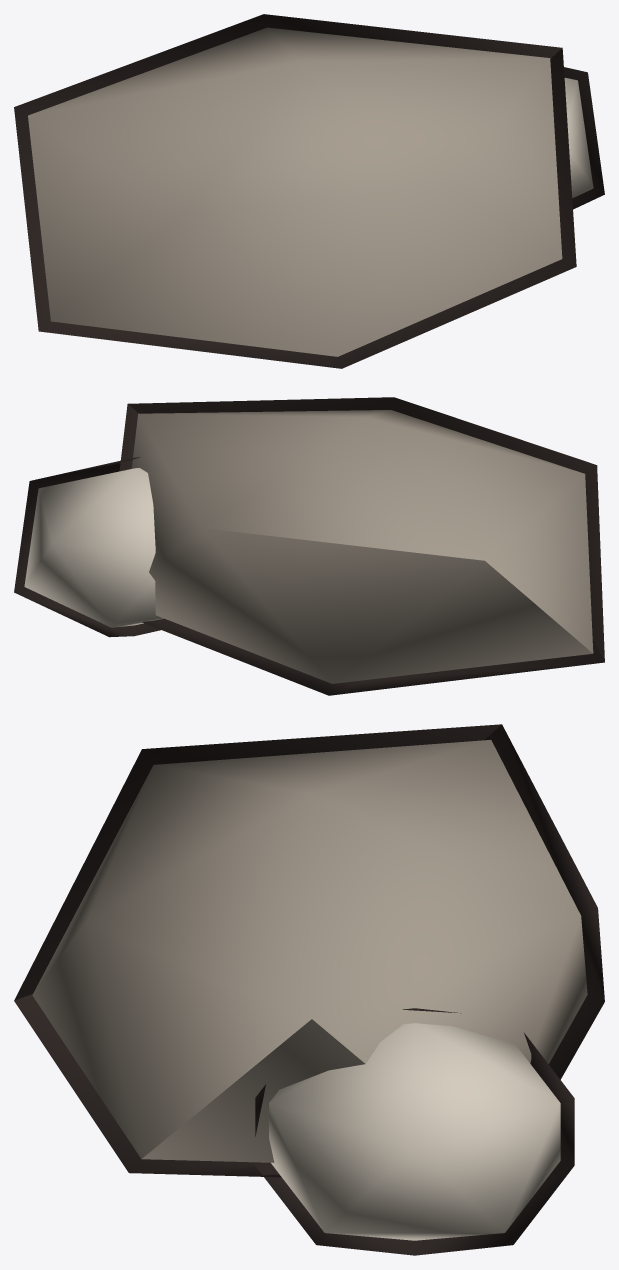
File: Rock.fbx
The picture shows the model from 3 angles, top to bottom: view 1: azimuth 30°, elevation 25°; view 2: azimuth 150°, elevation 25°; view 3: azimuth 270°, elevation 25°; orthographic projection. The views are drawn at different scales.
Visible parts, largest first — view 1: PR_Rock_StoneDark, PR_Rock_Outline, PR_Rock_Stone; view 2: PR_Rock_StoneDark, PR_Rock_Outline, PR_Rock_Stone; view 3: PR_Rock_StoneDark, PR_Rock_Stone, PR_Rock_Outline.
Boxes of the visible parts, x1,y1,x2,y2 form: PR_Rock_StoneDark: (28,27,562,356); PR_Rock_Outline: (14,14,604,368); PR_Rock_Stone: (564,77,593,198); PR_Rock_StoneDark: (131,410,593,683); PR_Rock_Outline: (14,397,604,695); PR_Rock_Stone: (24,468,163,627); PR_Rock_StoneDark: (32,740,587,1162); PR_Rock_Stone: (269,1023,560,1240); PR_Rock_Outline: (14,724,604,1255).
Bounding box in the file's own units: 2.51 × 1.23 × 1.72.
